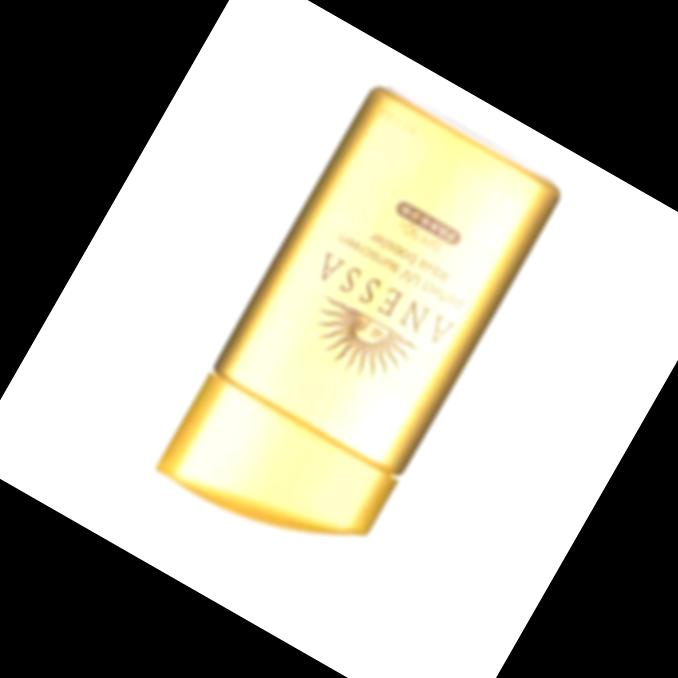cosmetic: (150, 84, 566, 582)
